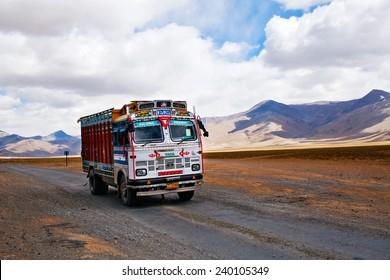truck: (77, 100, 204, 206)
